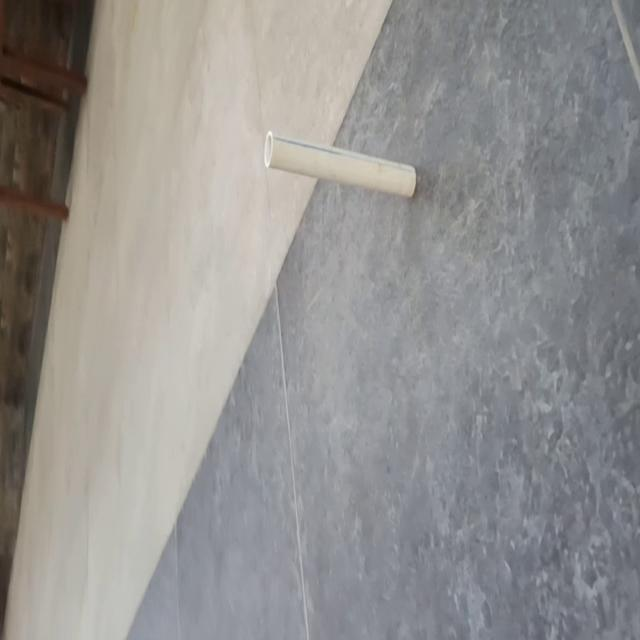Cube: (263, 127, 417, 200)
